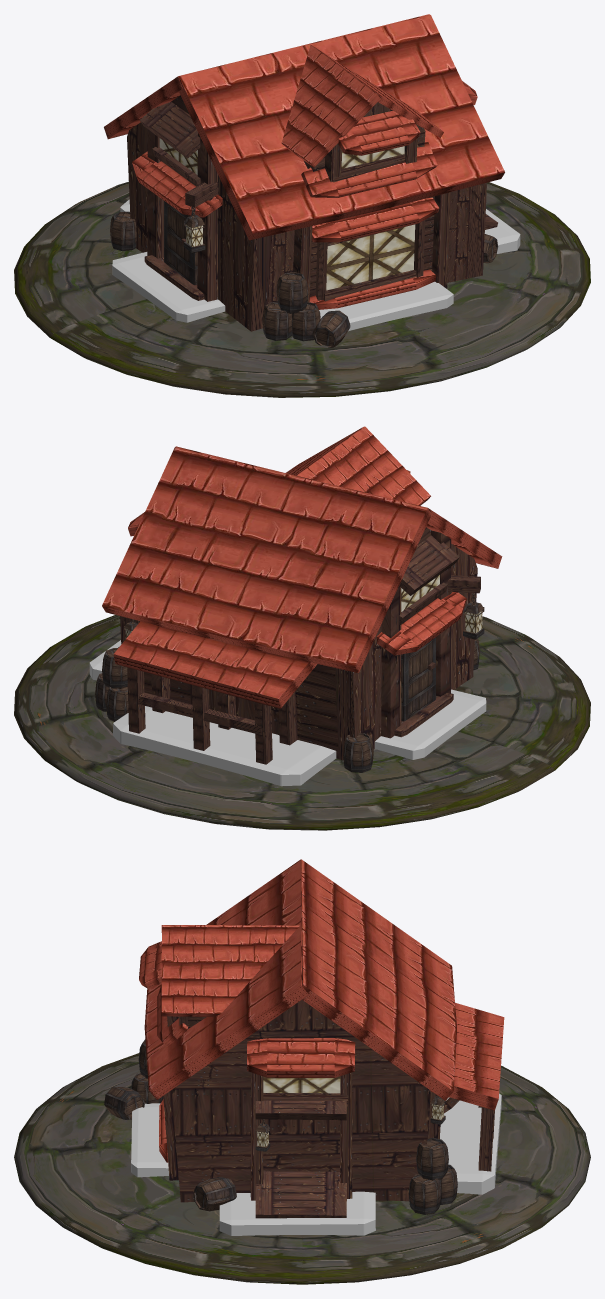
The model's file is GameHouse.fbx.
The picture shows the model from 3 angles, top to bottom: view 1: azimuth 30°, elevation 25°; view 2: azimuth 150°, elevation 25°; view 3: azimuth 270°, elevation 25°; orthographic projection. The views are drawn at different scales.
Parts seen in each view (by area): view 1: Sphere, Cube.002, Cube.003, Cube.037, Cube.028, Cube.024, Cube.054, Cube.032, Cube.039, Cube.026, Cube.044, Cube.015 (+24 smaller); view 2: Sphere, Cube.001, Cube.029, Cube.049, Cube.003, Cube.037, Cube.005, Cube.054, Cube.015, Cube.014, Cube.088, Cube.072 (+13 smaller); view 3: Sphere, Cube.004, Cube.001, Cube.002, Cube.038, Cube.029, Cube.018, Cube.057, Cube.050, Cube.049, Cube.032, Cube.017 (+13 smaller).
Part boxes in pixels (x1=…): Sphere: x1=14, y1=181, x2=590, y2=397; Cube.002: x1=178, y1=15, x2=504, y2=240; Cube.003: x1=127, y1=95, x2=272, y2=331; Cube.037: x1=281, y1=45, x2=380, y2=167; Cube.028: x1=269, y1=187, x2=471, y2=302; Cube.024: x1=326, y1=224, x2=415, y2=290; Cube.054: x1=112, y1=252, x2=225, y2=322; Cube.032: x1=319, y1=281, x2=453, y2=331; Cube.039: x1=301, y1=142, x2=437, y2=197; Cube.026: x1=312, y1=197, x2=439, y2=242; Cube.044: x1=334, y1=111, x2=420, y2=155; Cube.015: x1=132, y1=151, x2=222, y2=217; Sphere: x1=14, y1=615, x2=590, y2=830; Cube.001: x1=102, y1=447, x2=431, y2=673; Cube.029: x1=113, y1=621, x2=317, y2=708; Cube.049: x1=113, y1=706, x2=336, y2=786; Cube.003: x1=335, y1=527, x2=477, y2=760; Cube.037: x1=297, y1=426, x2=430, y2=505; Cube.005: x1=139, y1=621, x2=338, y2=758; Cube.054: x1=374, y1=689, x2=486, y2=759; Cube.015: x1=376, y1=592, x2=466, y2=655; Cube.014: x1=381, y1=586, x2=401, y2=738; Cube.088: x1=401, y1=637, x2=435, y2=721; Cube.072: x1=399, y1=535, x2=459, y2=595; Sphere: x1=14, y1=1053, x2=590, y2=1284; Cube.004: x1=172, y1=1000, x2=430, y2=1202; Cube.001: x1=301, y1=859, x2=456, y2=1100; Cube.002: x1=144, y1=859, x2=308, y2=1099; Cube.038: x1=161, y1=925, x2=299, y2=1016; Cube.029: x1=430, y1=1002, x2=504, y2=1110; Cube.018: x1=219, y1=1191, x2=375, y2=1235; Cube.057: x1=255, y1=1171, x2=346, y2=1218; Cube.050: x1=247, y1=1038, x2=355, y2=1077; Cube.049: x1=440, y1=1093, x2=501, y2=1194; Cube.032: x1=131, y1=1103, x2=168, y2=1177; Cube.017: x1=255, y1=1100, x2=346, y2=1120.
Size of the model in its own units: 23199 by 10986 by 22462.
